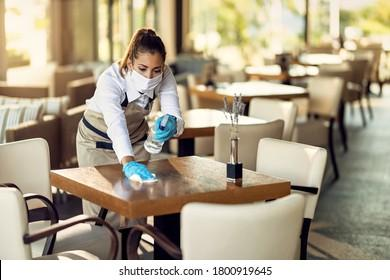gloves: (121, 161, 156, 182), (154, 114, 177, 143)
